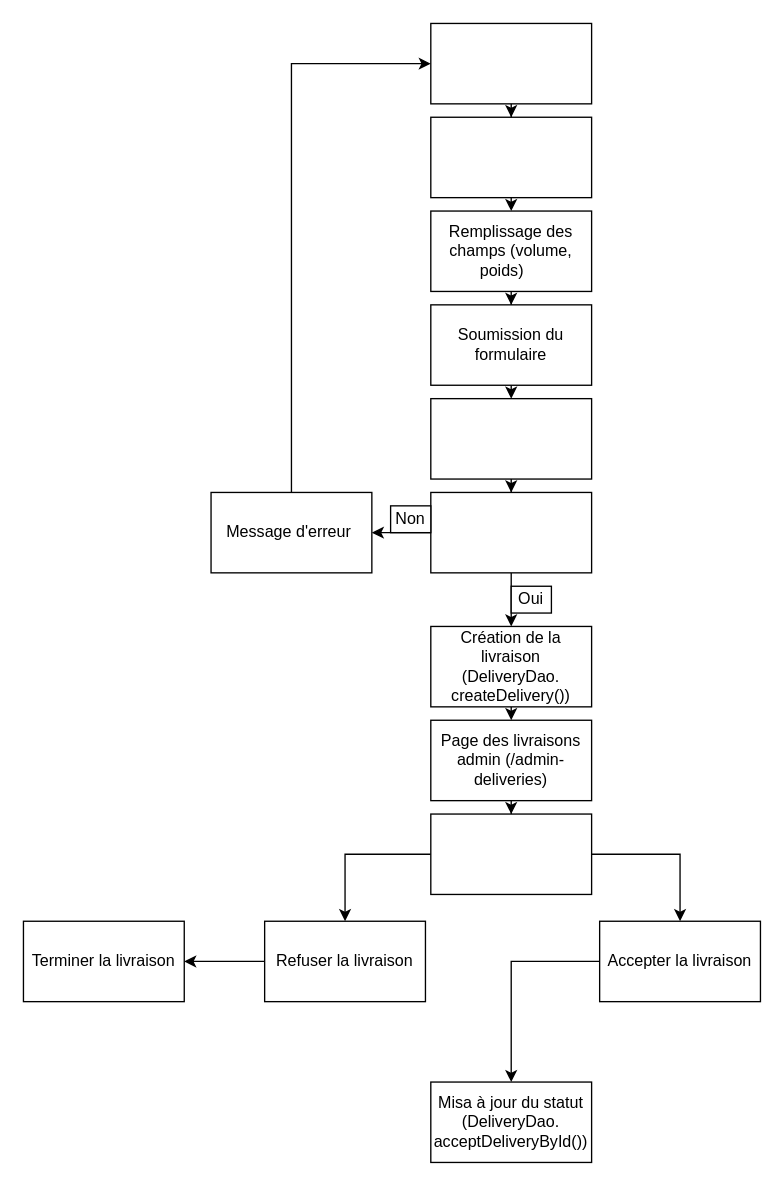
Image size: 784x1186. Some labels were removed from this diagram. Here are the shapes that lost their labels. From the top down, the centre of each, then its label:
At point (510, 63): "Start".
At point (510, 157): "Page de création de livraison (/create-delivery)".
At point (510, 438): "Validation des champs".
At point (510, 532): "Champs valides ?".
At point (510, 853): "Voir livraisons en attente".
